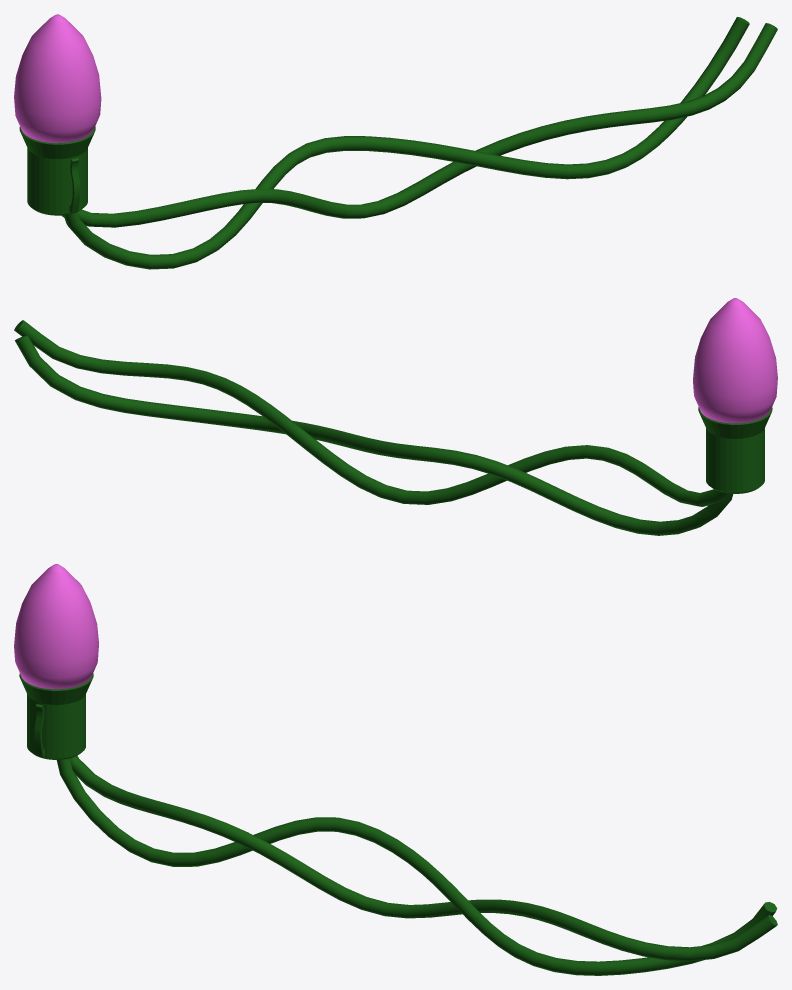
File: festiveLight3.fbx
3 views of the same model, one above another, from view 1: azimuth 30°, elevation 25°; view 2: azimuth 150°, elevation 25°; view 3: azimuth 330°, elevation 25° (orthographic). The views are drawn at different scales.
Visible parts, largest first — view 1: Festive Light 3; view 2: Festive Light 3; view 3: Festive Light 3.
Part boxes in pixels (<box>): Festive Light 3: <box>14,14,777,269</box>; Festive Light 3: <box>14,298,777,535</box>; Festive Light 3: <box>14,564,777,975</box>.
Size of the model in its own units: 307 by 109 by 34.85.
